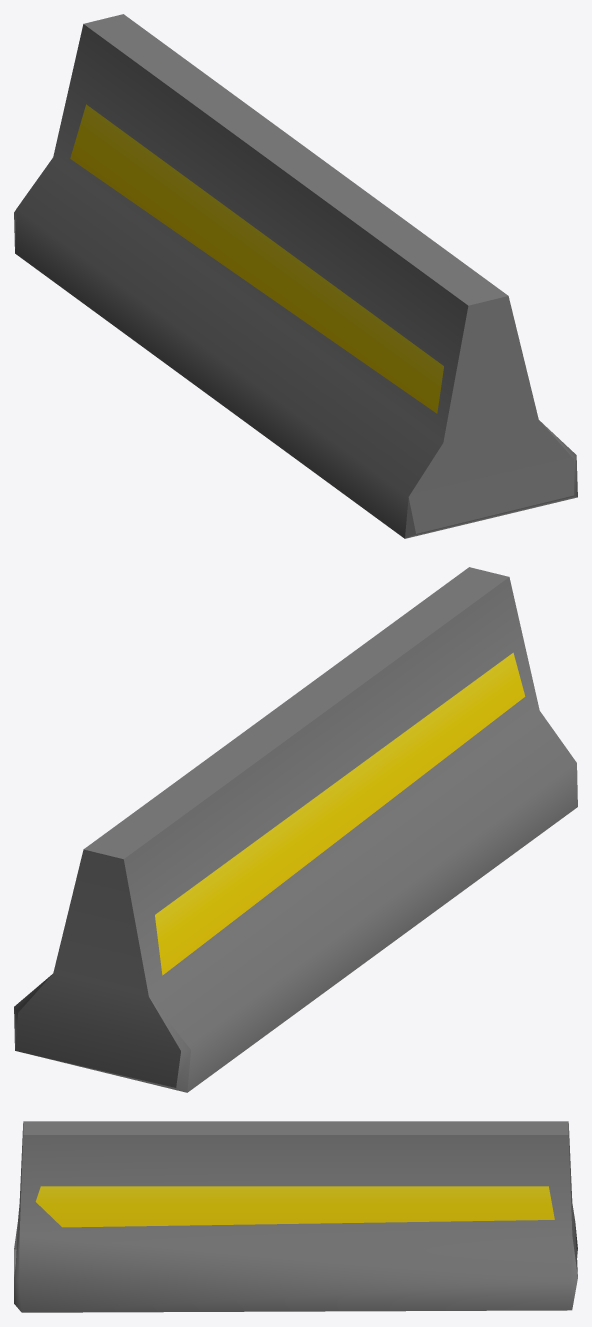
The model's file is Concrete_Barrier2.fbx.
3 renders of one model, top to bottom at view 1: azimuth 30°, elevation 25°; view 2: azimuth 150°, elevation 25°; view 3: azimuth 270°, elevation 25°, orthographic. The views are drawn at different scales.
Parts seen in each view (by area): view 1: Concrete_Barrier_1A; view 2: Concrete_Barrier_1A; view 3: Concrete_Barrier_1A.
Part boxes in pixels (x1,y1,x2,y2): Concrete_Barrier_1A: [14, 14, 577, 538]; Concrete_Barrier_1A: [14, 567, 577, 1092]; Concrete_Barrier_1A: [14, 1121, 577, 1312].
Bounding box in the file's own units: 1566 × 1841 × 6109.
